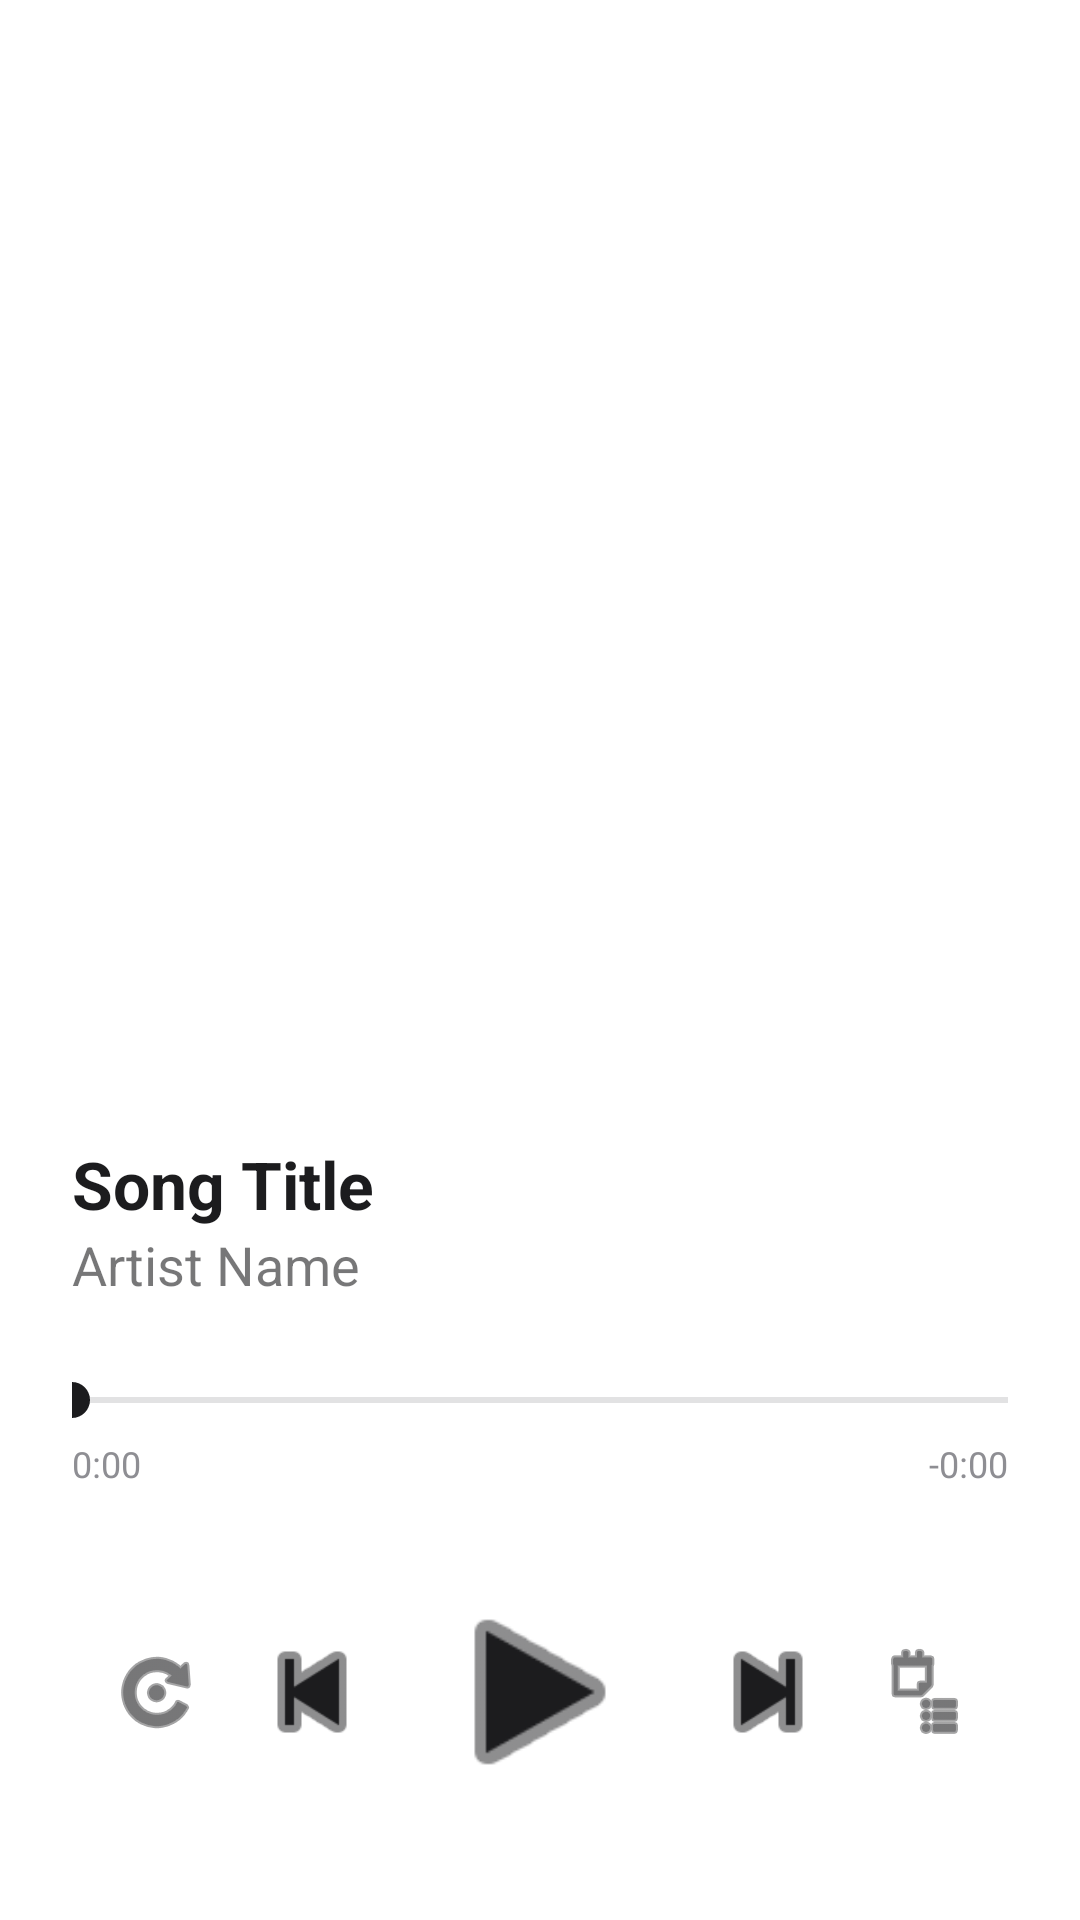

Icons on this 1080 x 1920 Android screen, each with the point to tap as point (x, y):
agenda: point (924, 1691)
next: point (768, 1692)
play: point (540, 1692)
previous: point (312, 1692)
rotate: point (156, 1692)
